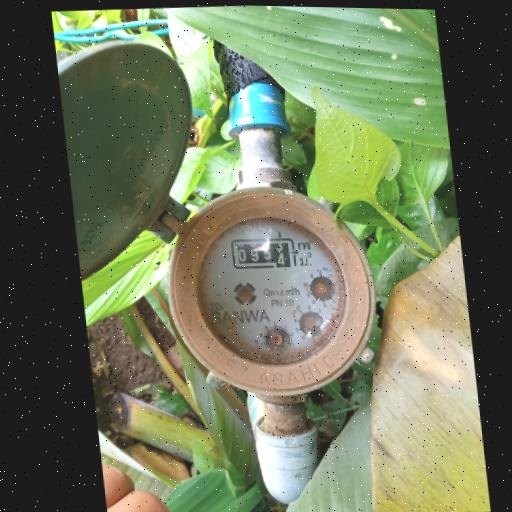0: (236, 244, 250, 265)
4: (274, 243, 289, 268)
5: (261, 242, 276, 263)
9: (248, 244, 263, 265)
border_water_meter_number: (230, 236, 301, 272)
